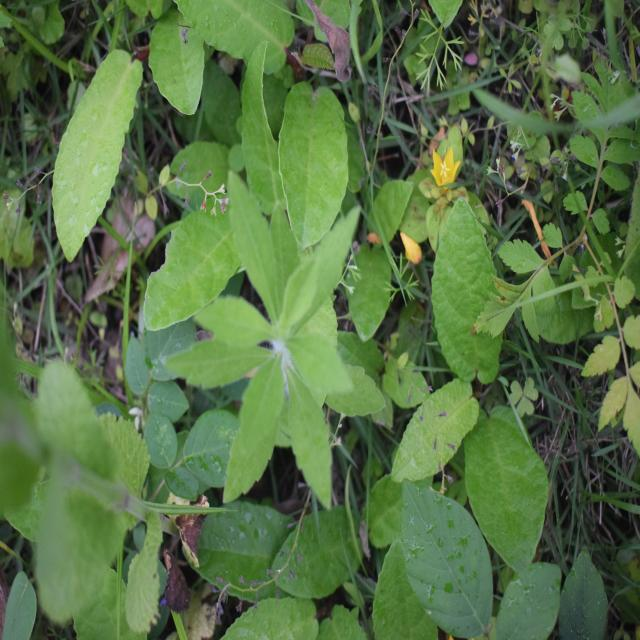horseweed: (198, 194, 383, 497)
